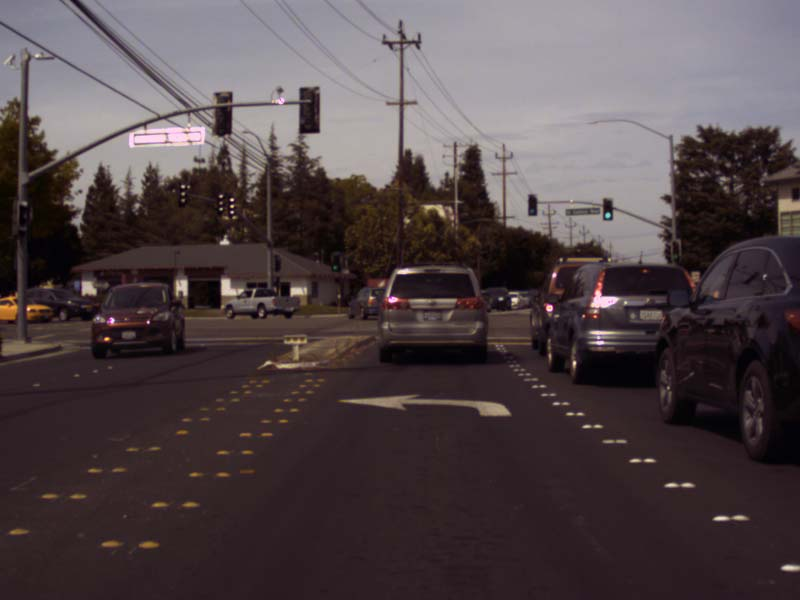Green: (602, 197, 612, 219), (527, 194, 536, 215), (672, 241, 678, 260), (332, 255, 338, 270)
